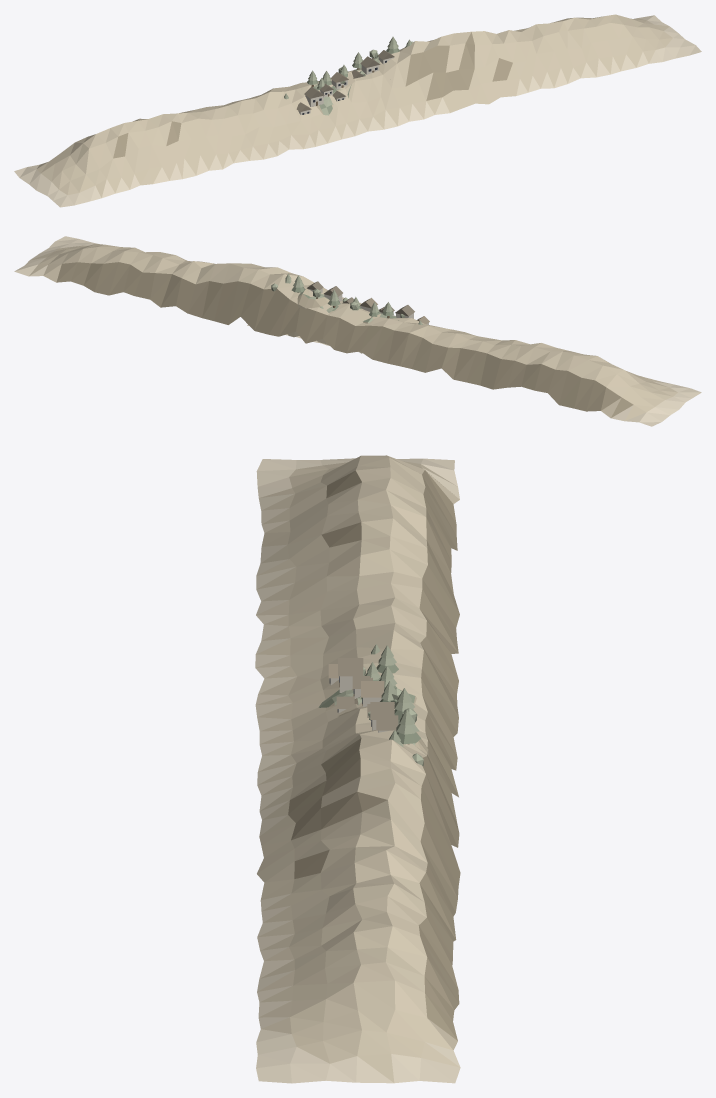
Rendered from terrain.glb.
The picture shows the model from 3 angles, top to bottom: view 1: azimuth 30°, elevation 25°; view 2: azimuth 150°, elevation 25°; view 3: azimuth 270°, elevation 25°; orthographic projection. The views are drawn at different scales.
Visible parts, largest first — view 1: FarRidge, TownHouses; view 2: FarRidge, TownHouses, TownGround; view 3: FarRidge, TownHouses.
Boxes of the visible parts, left/top/right/bottom form: FarRidge: left=14, top=14, right=701, bottom=207; TownHouses: left=284, top=36, right=413, bottom=114; FarRidge: left=14, top=236, right=701, bottom=426; TownHouses: left=271, top=273, right=429, bottom=324; TownGround: left=247, top=288, right=399, bottom=353; FarRidge: left=255, top=455, right=460, bottom=1083; TownHouses: left=328, top=644, right=423, bottom=766.
Size of the model in its own units: 121 by 9.79 by 16.75.
